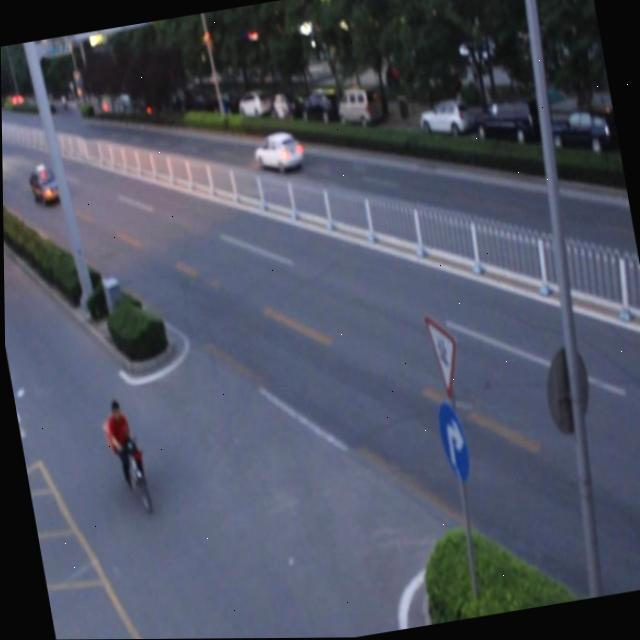car: (249, 130, 305, 178)
